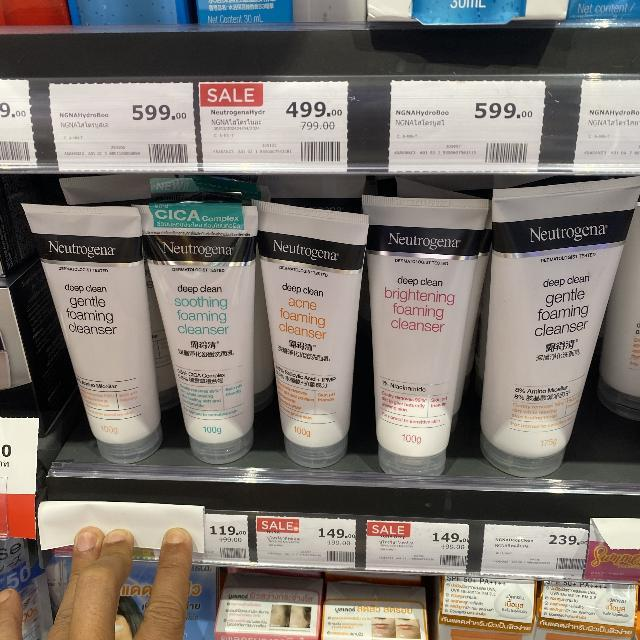Squeeze Tube: (14, 169, 640, 496)
